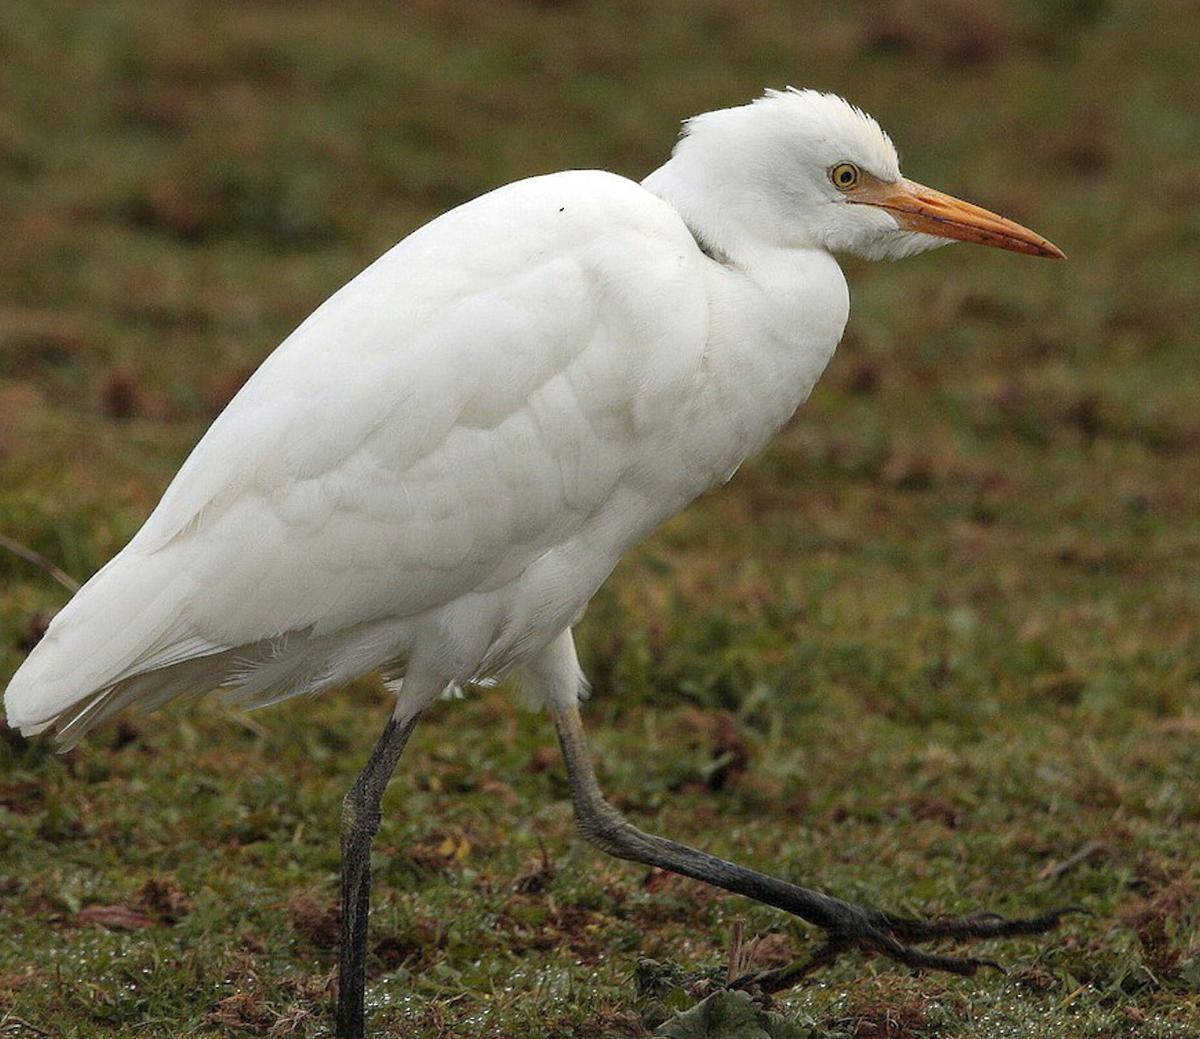egret: (37, 86, 1083, 1011)
